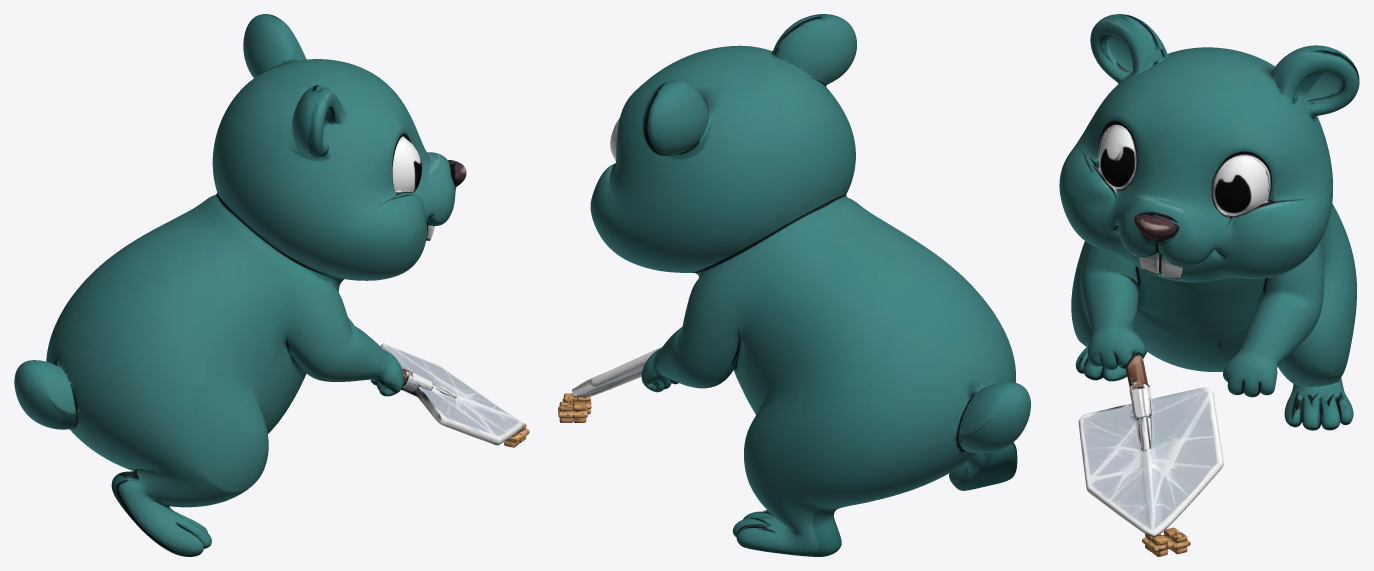
Rendered from go-gopher.glb.
3 views of the same model, side by side, from view 1: azimuth 30°, elevation 25°; view 2: azimuth 150°, elevation 25°; view 3: azimuth 270°, elevation 25° (orthographic). The views are drawn at different scales.
Visible parts, largest first — view 1: node_0; view 2: node_0; view 3: node_0.
Boxes of the visible parts, left/top/right/bottom form: node_0: left=14, top=14, right=529, bottom=556; node_0: left=558, top=14, right=1030, bottom=556; node_0: left=1059, top=14, right=1359, bottom=556.
Size of the model in its own units: 0.9193 by 0.7721 by 0.4893.
Materials: 1 (1 with a texture image).
